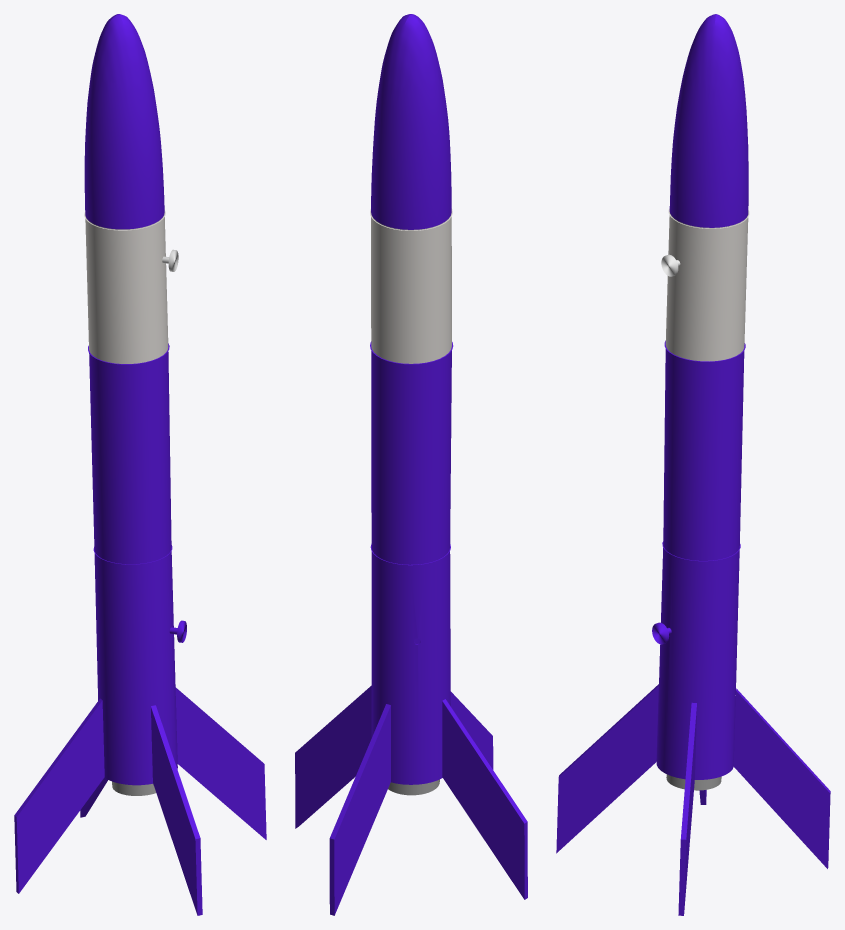
The model's file is rocket5.gltf.
3 views of the same model, side by side, from view 1: azimuth 30°, elevation 25°; view 2: azimuth 150°, elevation 25°; view 3: azimuth 270°, elevation 25° (orthographic). The views are drawn at different scales.
Parts seen in each view (by area): view 1: trup, finy; view 2: trup, finy, motor; view 3: trup, finy.
Boxes of the visible parts, x1=… form: trup: x1=84, y1=14, x2=177, y2=785; finy: x1=14, y1=687, x2=266, y2=915; trup: x1=370, y1=14, x2=453, y2=784; finy: x1=295, y1=685, x2=527, y2=915; motor: x1=388, y1=779, x2=439, y2=795; trup: x1=656, y1=14, x2=749, y2=779; finy: x1=556, y1=684, x2=830, y2=915.
Size of the model in its own units: 0.1963 by 0.6691 by 0.197.
